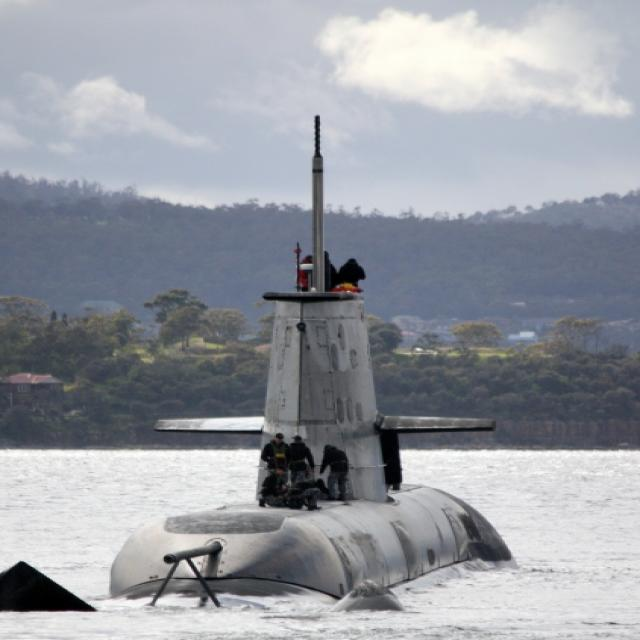submarine: (1, 110, 536, 617)
